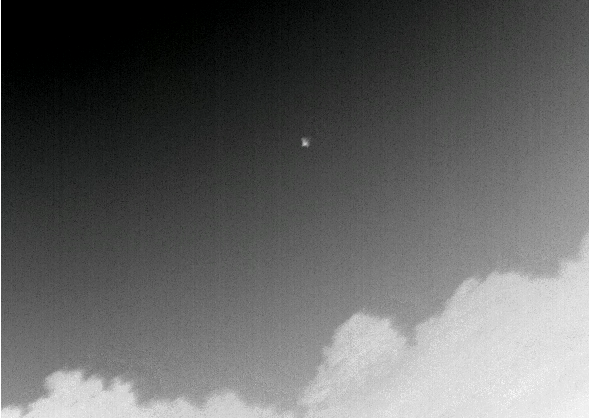dim target: (299, 136, 311, 148)
